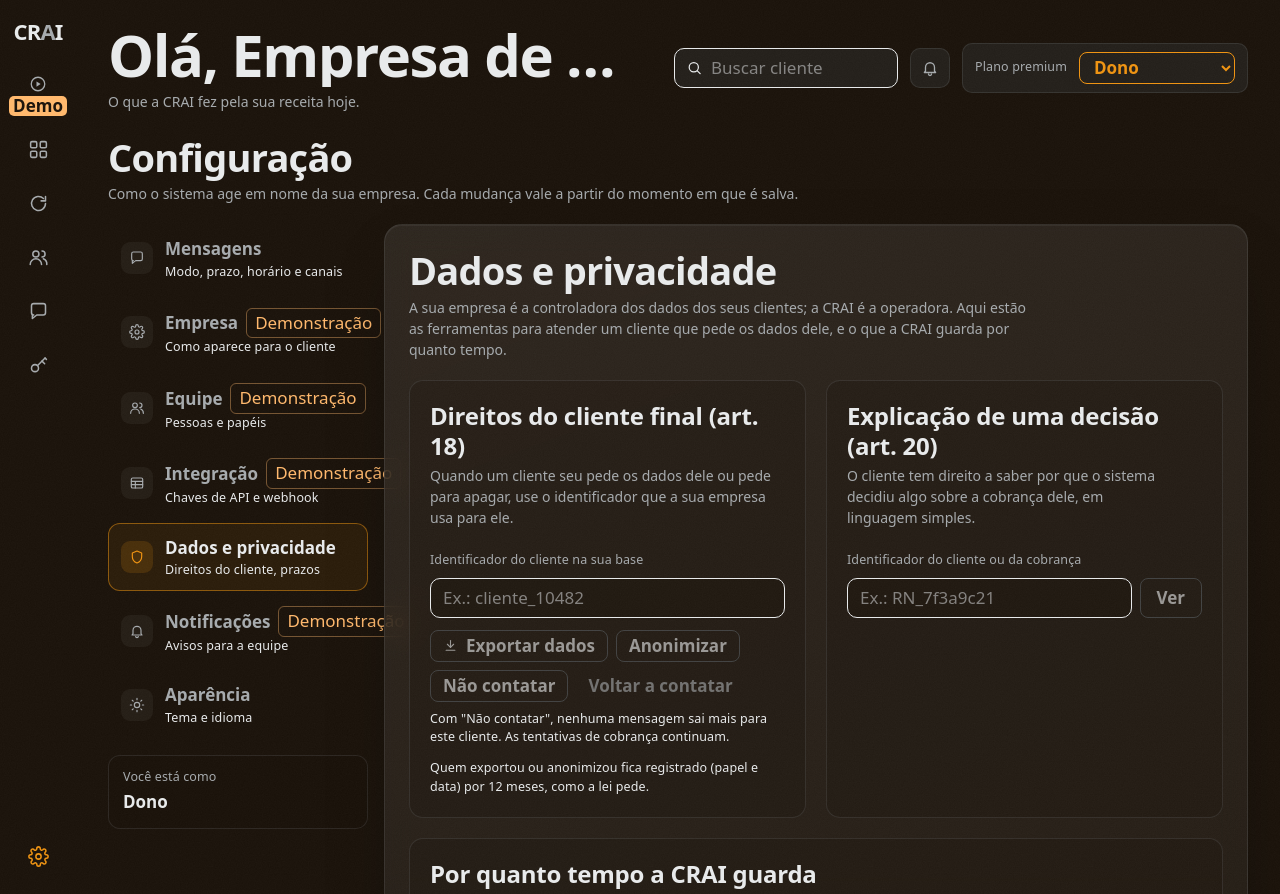
Scenario: dados e privacidade em modo real › exportar: manda só o identificador, e oferece o arquivo que o backend devolveu
Check: the heading "Por quanto tempo a CRAI guarda" is shown, box [430,856,817,890]
Type "c-1" into the field with placeholder "Ex.: cliente_10482".
click(608, 598); type("c-1")  # box [430,578,785,618]
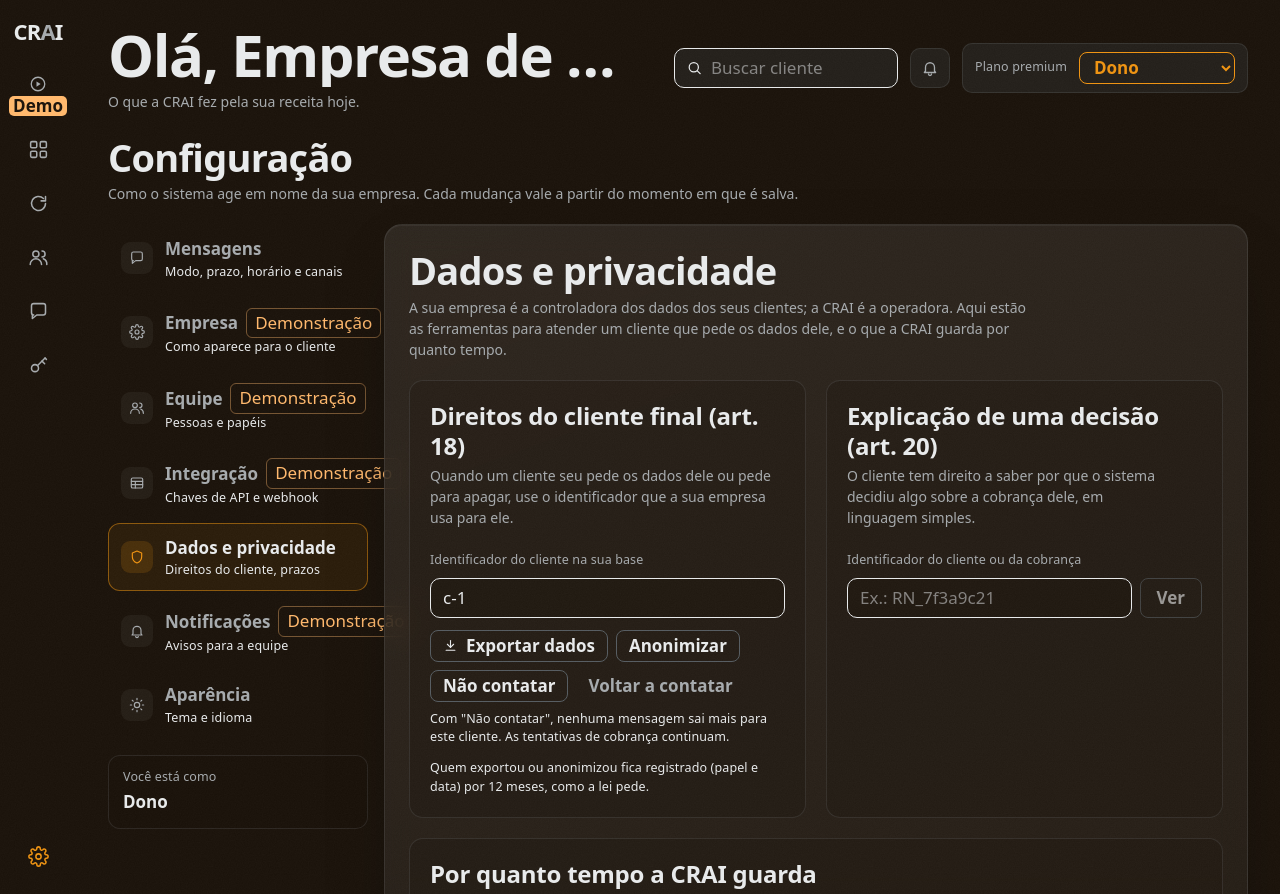
Click the button "Exportar dados".
click(519, 646)  # box [430,630,608,662]
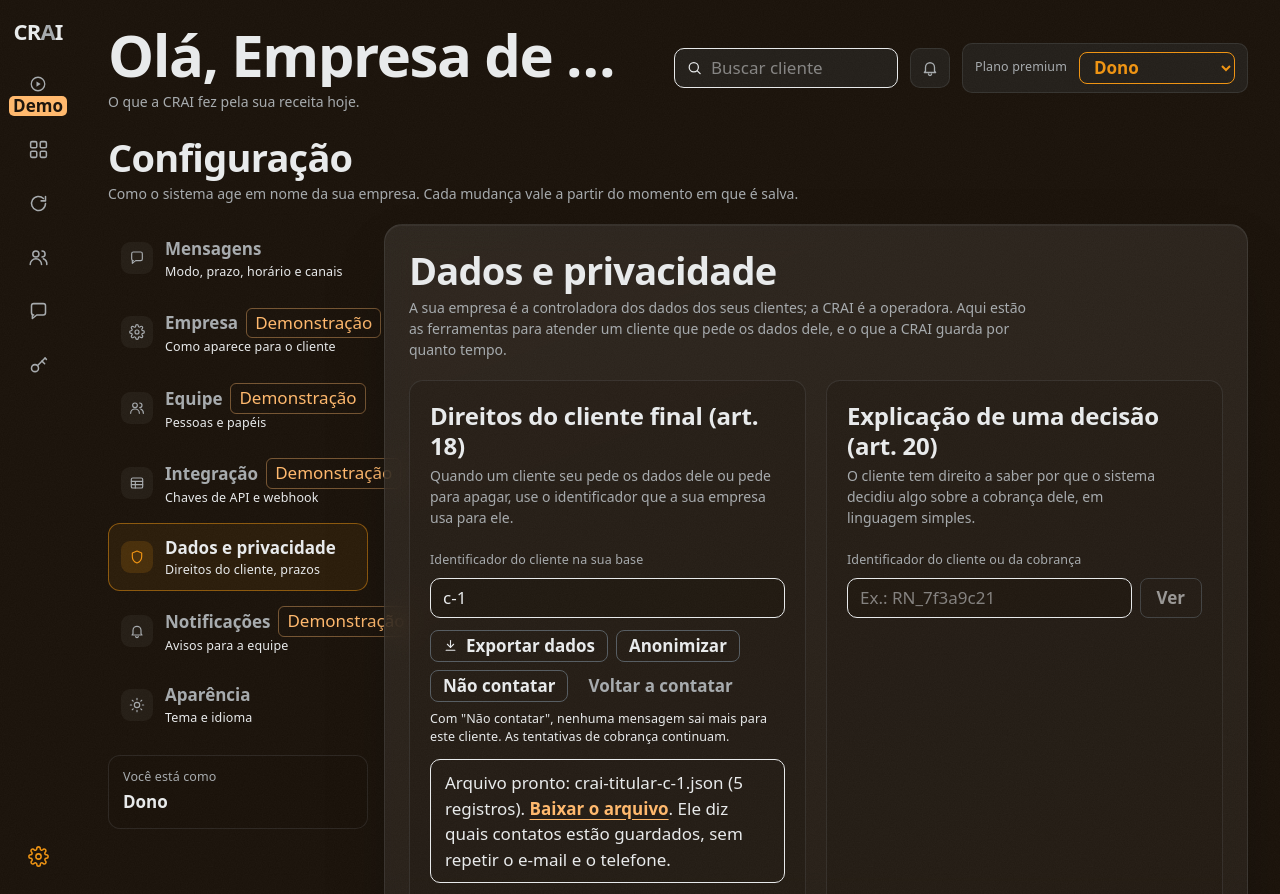
Check: the text "crai-titular-c-1.json" is shown, box [575,771,724,794]
Check: the text "(5 registros)" is shown, box [445,771,743,820]
Check: the text "Ele diz quais contatos estão guardados, sem repetir o e-mail e o telefone." is shown, box [445,796,743,870]
